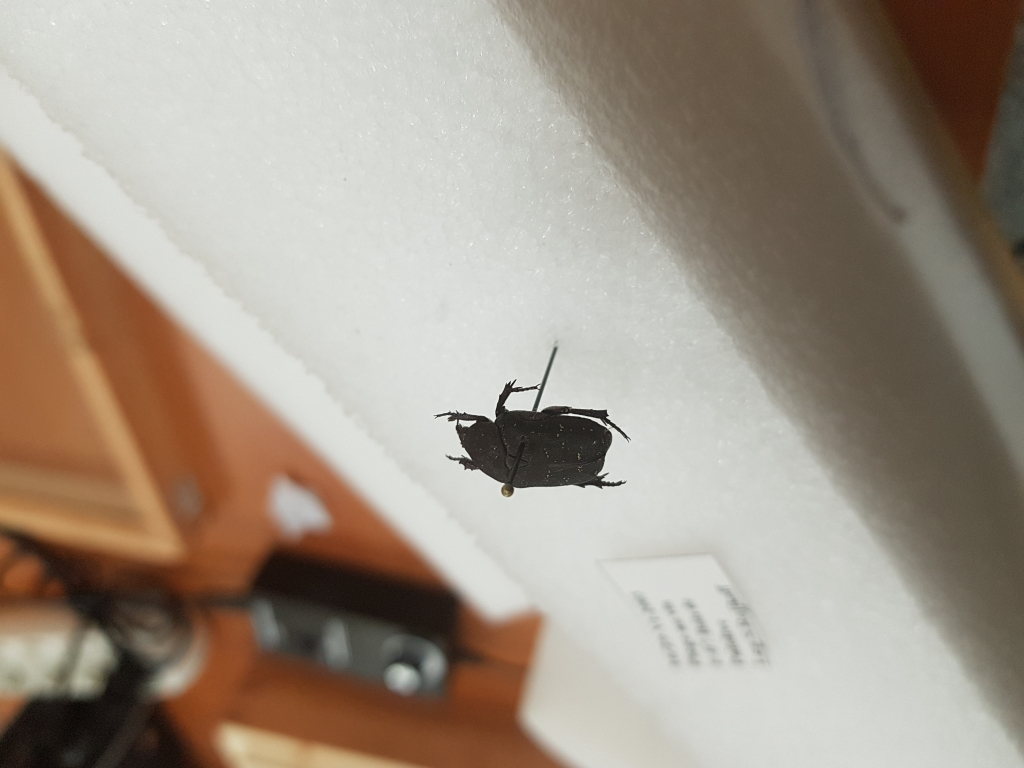Protaetia_morio_morio: (435, 376, 634, 500)
